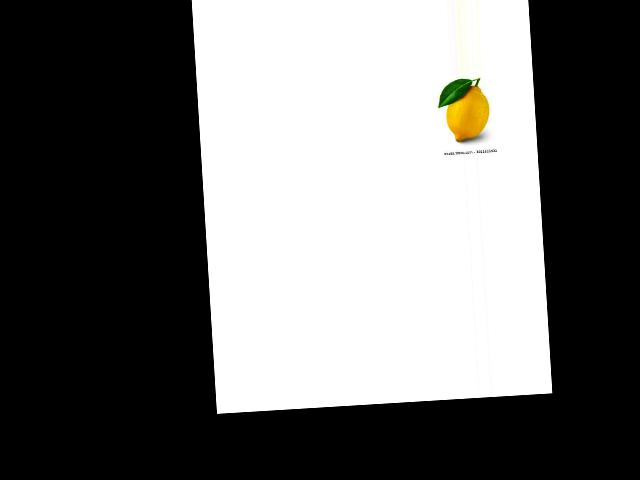lemon: (438, 82, 492, 143)
